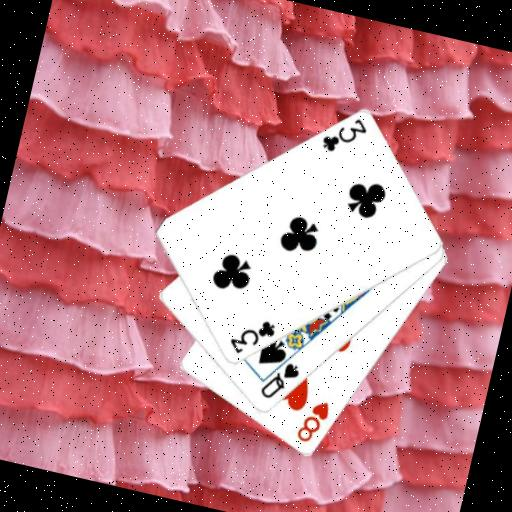3C: (223, 311, 279, 364), (316, 108, 372, 161)
8H: (292, 394, 334, 448)
QS: (256, 355, 304, 407)
